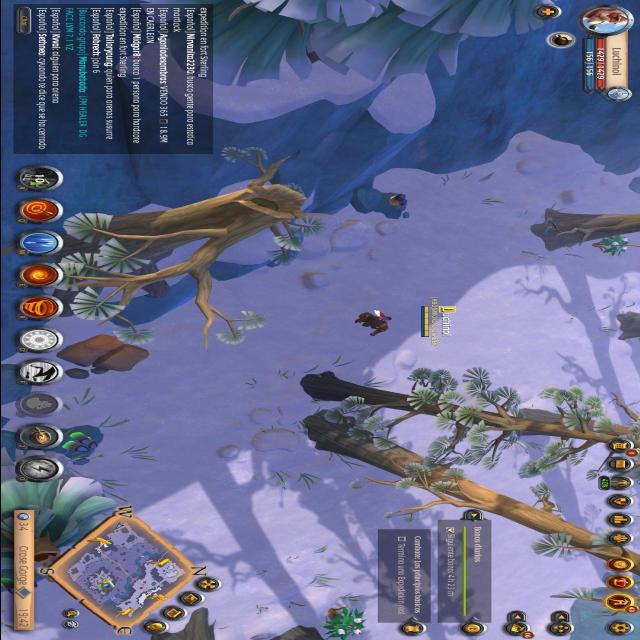piedra_cobre: (366, 189, 420, 227)
